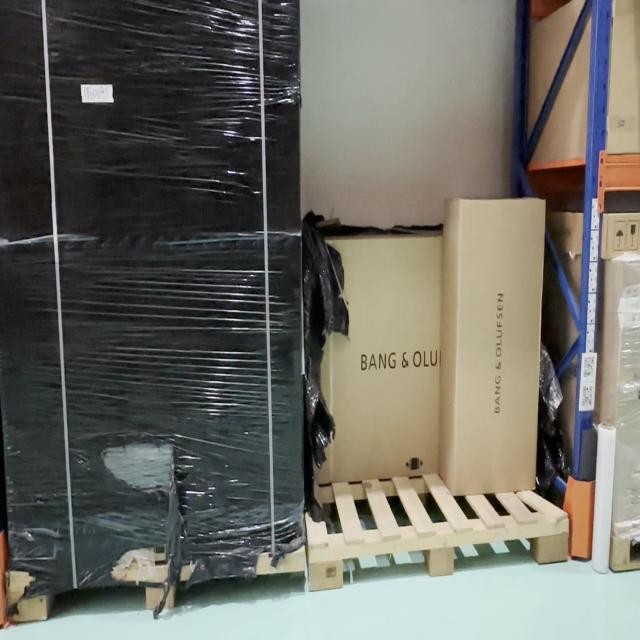box: (5, 0, 301, 538), (314, 236, 442, 479), (460, 200, 534, 490), (623, 260, 640, 520), (607, 212, 640, 253)
